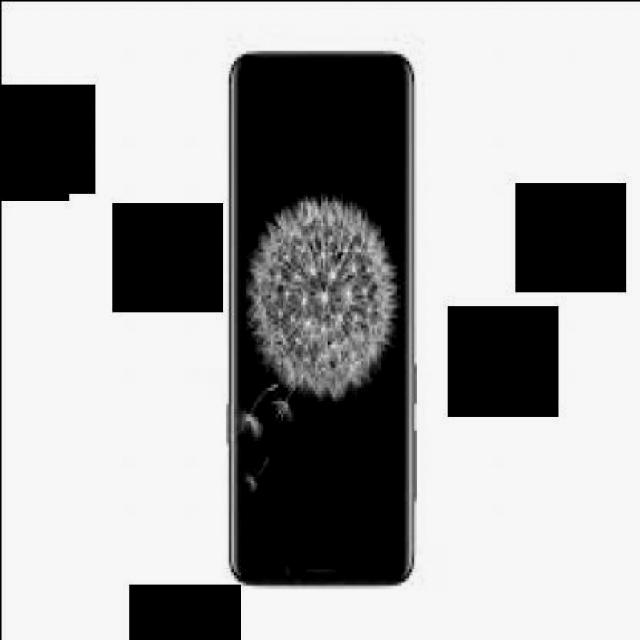fake: (224, 49, 420, 588)
